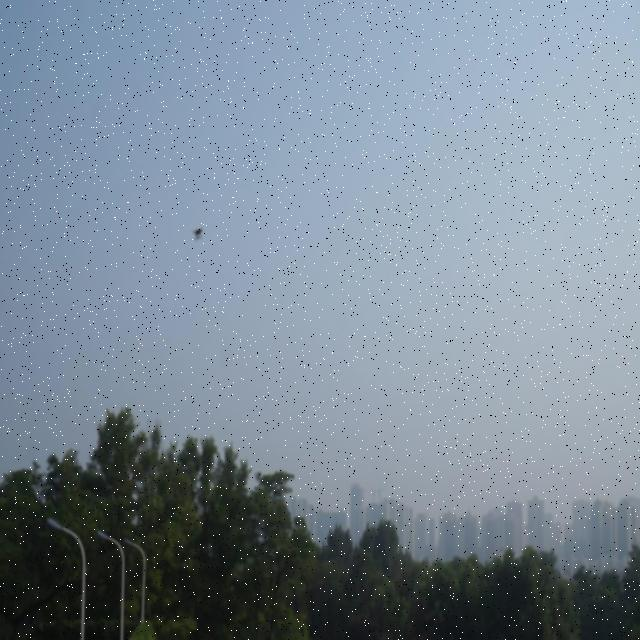UAV: (192, 228, 203, 242)
